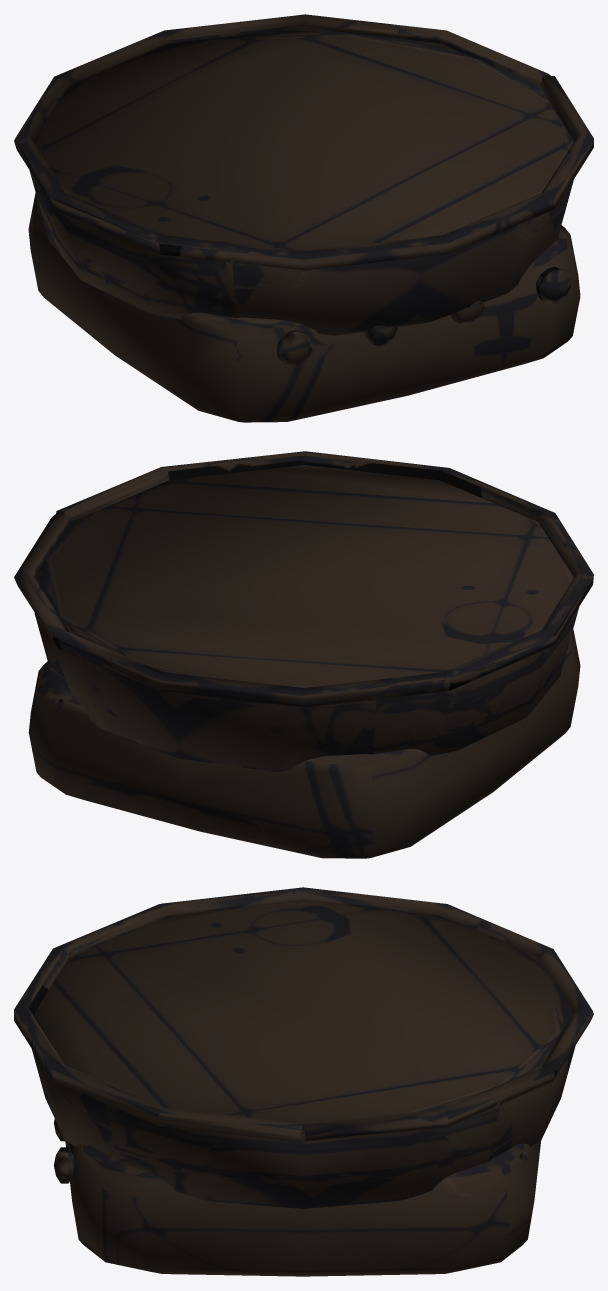
The model's file is Albatros_GuanteDer.fbx.
3 renders of one model, top to bottom at view 1: azimuth 30°, elevation 25°; view 2: azimuth 150°, elevation 25°; view 3: azimuth 270°, elevation 25°, orthographic.
Parts seen in each view (by area): view 1: Albatros_GuanteDer; view 2: Albatros_GuanteDer; view 3: Albatros_GuanteDer.
Part boxes in pixels (x1=…): Albatros_GuanteDer: x1=14, y1=14, x2=593, y2=422; Albatros_GuanteDer: x1=14, y1=451, x2=593, y2=858; Albatros_GuanteDer: x1=14, y1=887, x2=593, y2=1276.
Bounding box in the file's own units: 1.72 × 0.6363 × 1.72.
